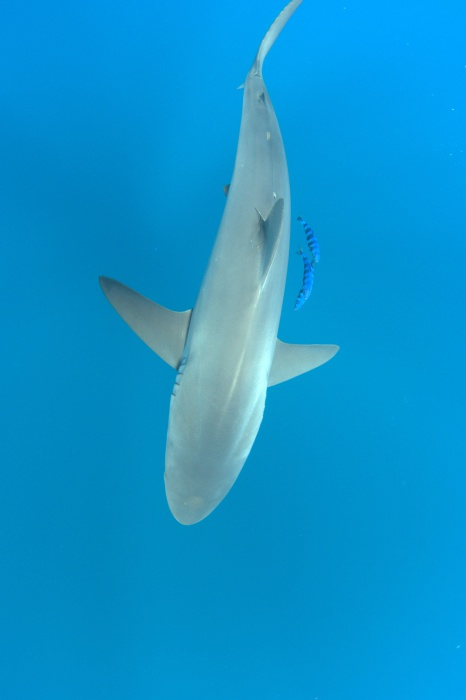Sedoso: (95, 1, 358, 551)
